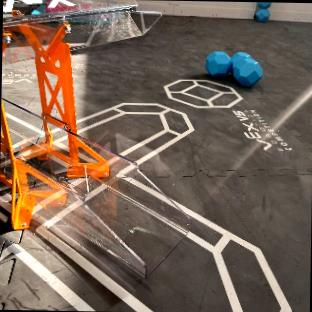V5_BLUE: (205, 50, 261, 86)
